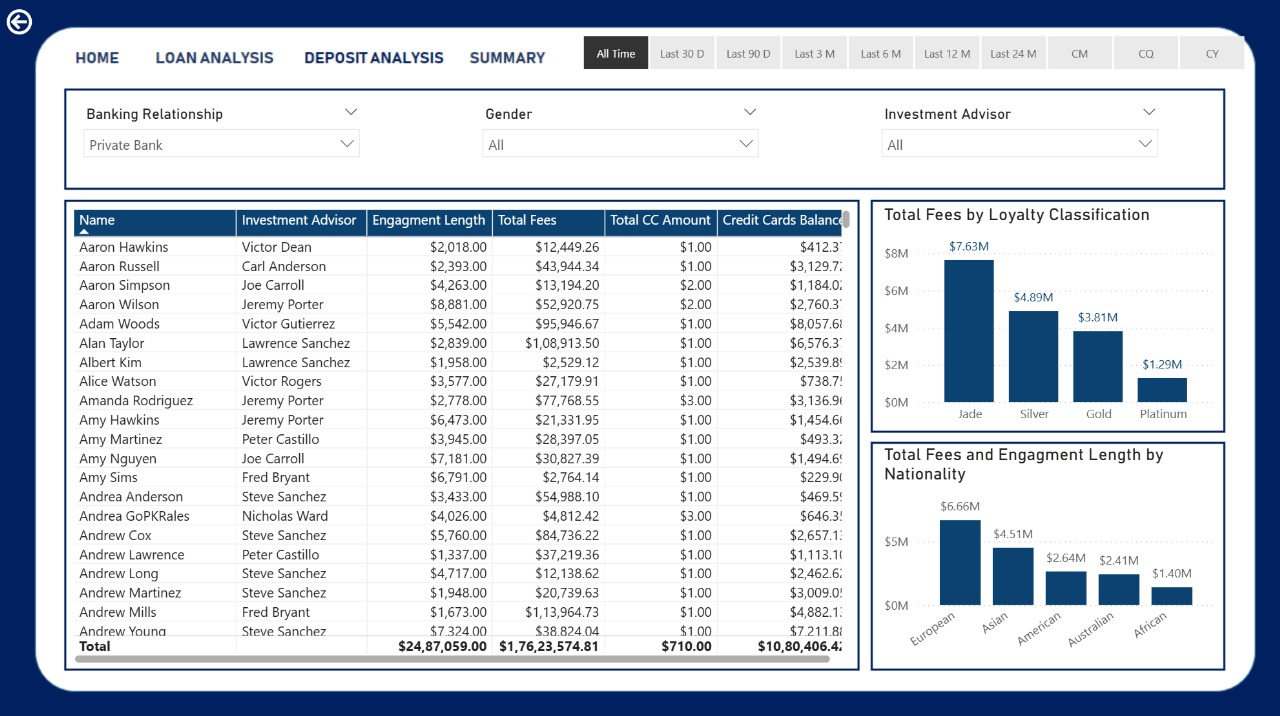

Layout of this report page (visuals, bound fields, positions):
{"tool":"powerbi","page":{"name":"Drill Through","canvas":[1280,720],"ordinal":4},"visuals":[{"type":"slicer","fields":{"Values":["Banking Relationship.Banking Relationship"]},"box":[77.4,104.4,293.2,76.2],"z":0},{"type":"slicer","fields":{"Values":["Gender.Gender"]},"box":[471.4,104.4,293.2,76.2],"z":1000},{"type":"slicer","fields":{"Values":["Investment Advisor.Investment Advisor"]},"box":[865.4,104.4,293.2,76.2],"z":2000},{"type":"tableEx","fields":{"Values":["Clients - Banking.Name","Investment Advisor.Investment Advisor","DAX Measures.Engagment Length","DAX Measures.Total Fees","DAX Measures.Total CC Amount","DAX Measures.Credit Cards"]},"box":[72.7,207.6,777.5,458.5],"z":3000},{"type":"actionButton","box":[8.2,10.6,41,34],"z":4000},{"type":"clusteredColumnChart","fields":{"Category":["Clients - Banking.Loyalty Classification"],"Y":["DAX Measures.Total Fees"]},"box":[873.6,207.6,336.5,225.1],"z":5000},{"type":"columnChart","fields":{"Category":["Clients - Banking.Nationality"],"Y":["DAX Measures.Total Fees"]},"box":[873.6,444.4,336.5,221.6],"z":6000},{"type":"slicer","fields":{"Values":["Period.Name"]},"box":[555.2,34.6,702.1,46.6],"z":7000},{"type":"actionButton","box":[72.8,44.2,58.5,31],"z":8000},{"type":"actionButton","box":[157.1,44.6,125.5,30.5],"z":9000},{"type":"actionButton","box":[297.9,44.6,151.3,30.5],"z":10000},{"type":"actionButton","box":[471.4,44.6,83.3,37.5],"z":11000}]}

Visuals, with their boxes in screenshot pixels (x1, y1, x2, y2), scaled from the page's 1280x720 canvas onto the 1280x716 screenshot:
slicer - Banking Relationship.Banking Relationship: detection(77, 104, 371, 180)
slicer - Gender.Gender: detection(471, 104, 765, 180)
slicer - Investment Advisor.Investment Advisor: detection(865, 104, 1159, 180)
tableEx - Clients - Banking.Name x Investment Advisor.Investment Advisor: detection(73, 206, 850, 662)
actionButton: detection(8, 11, 49, 44)
clusteredColumnChart - Clients - Banking.Loyalty Classification x DAX Measures.Total Fees: detection(874, 206, 1210, 430)
columnChart - Clients - Banking.Nationality x DAX Measures.Total Fees: detection(874, 442, 1210, 662)
slicer - Period.Name: detection(555, 34, 1257, 81)
actionButton: detection(73, 44, 131, 75)
actionButton: detection(157, 44, 283, 75)
actionButton: detection(298, 44, 449, 75)
actionButton: detection(471, 44, 555, 82)
